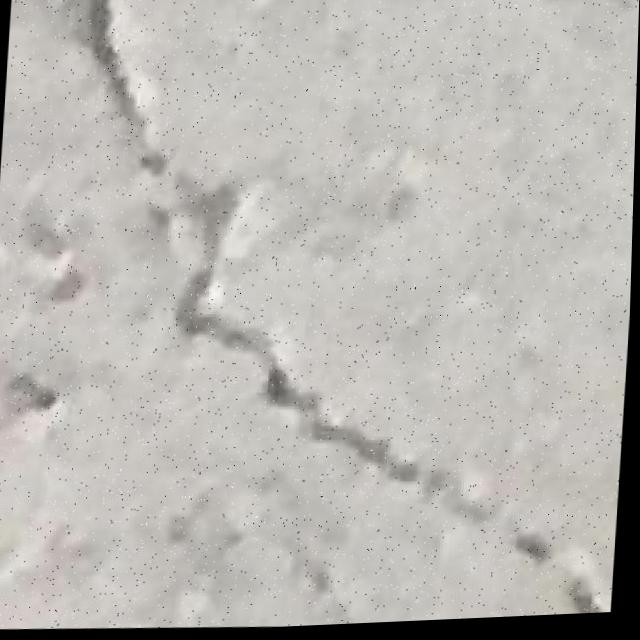Crack: (24, 0, 640, 639)
